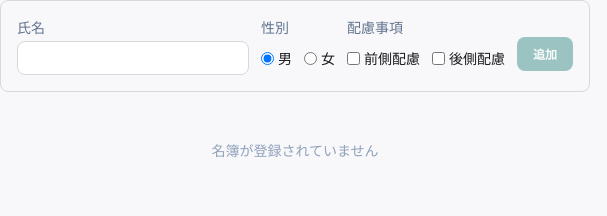
Test case: StudentTable › Enter キーで追加できる
Type "田中 花子" into the field labelled "氏名" at (133, 58), box [17,41,249,75]
Then press Enter
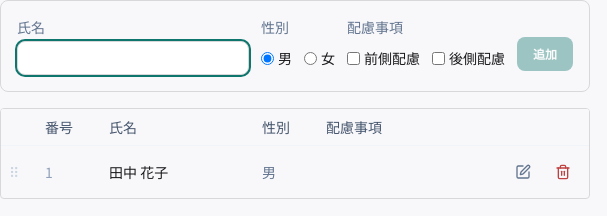
Expected: the text "田中 花子" is shown, [97,146,250,198]
